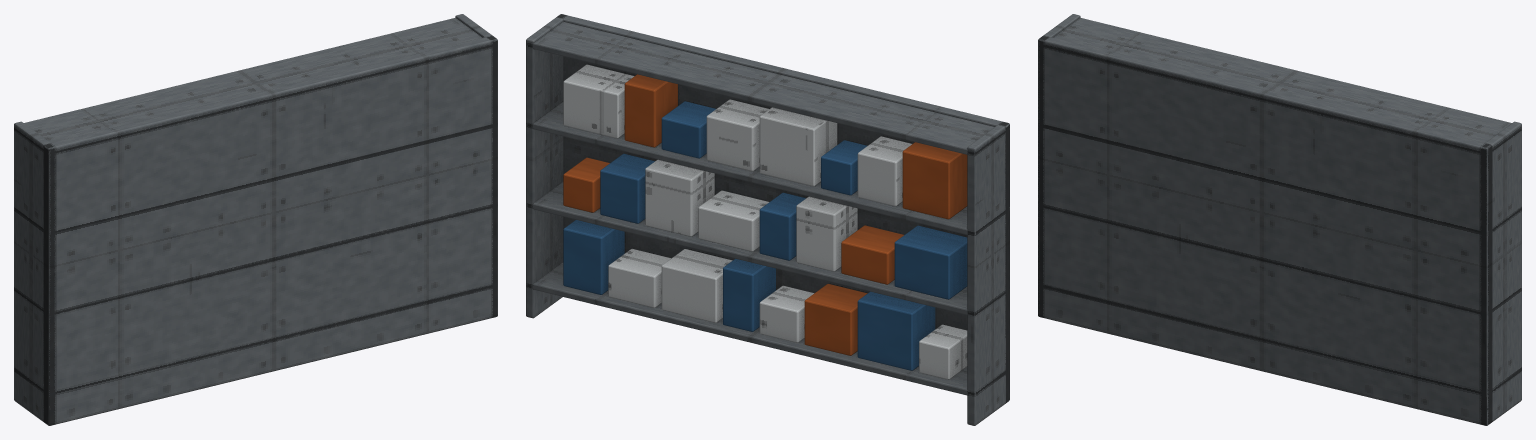
The model's file is base_goods_shelf.glb.
3 renders of one model, left to right at view 1: azimuth 30°, elevation 25°; view 2: azimuth 150°, elevation 25°; view 3: azimuth 330°, elevation 25°, orthographic.
Parts seen in each view (by area): view 1: base_goods_shelf; view 2: base_goods_shelf; view 3: base_goods_shelf.
Part boxes in pixels (left/top/right/bottom): base_goods_shelf: left=14, top=14, right=497, bottom=425; base_goods_shelf: left=526, top=14, right=1009, bottom=425; base_goods_shelf: left=1038, top=14, right=1521, bottom=425.
Size of the model in its own units: 4.4 by 2.6 by 0.6.
Materials: 4 (4 with a texture image).
